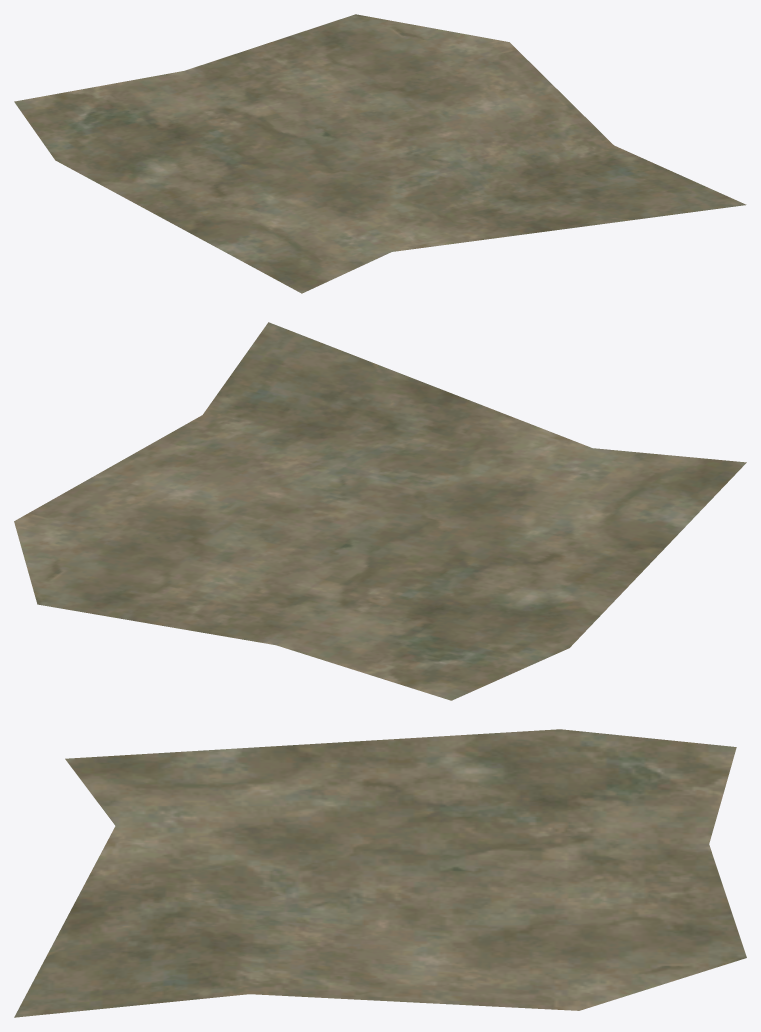
The model's file is OVERHILL_A_01_GROUND2.fbx.
3 views of the same model, one above another, from view 1: azimuth 30°, elevation 25°; view 2: azimuth 150°, elevation 25°; view 3: azimuth 270°, elevation 25° (orthographic). The views are drawn at different scales.
Visible parts, largest first — view 1: OVERHILL_A_01_GROUND2; view 2: OVERHILL_A_01_GROUND2; view 3: OVERHILL_A_01_GROUND2.
Part boxes in pixels (x1,y1,x2,y2): OVERHILL_A_01_GROUND2: (14,14,746,293); OVERHILL_A_01_GROUND2: (14,322,746,700); OVERHILL_A_01_GROUND2: (14,729,746,1017).
Bounding box in the file's own units: 16651 × 0.00291 × 17880.
Materials: 1 (1 with a texture image).
